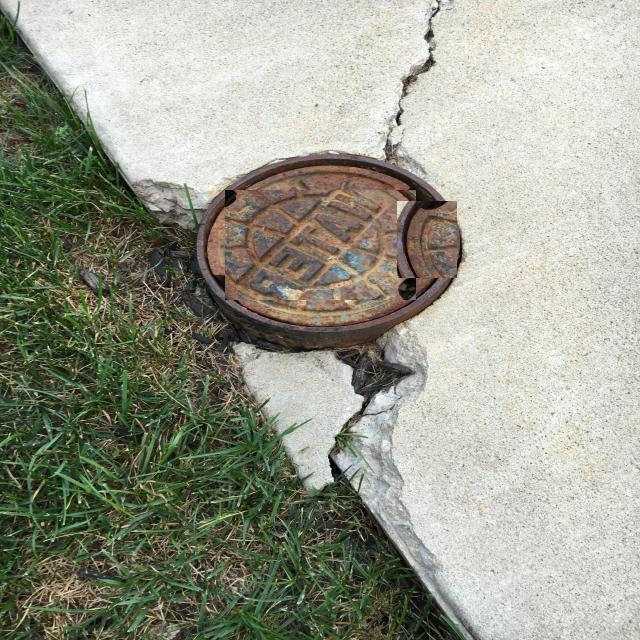Corrosion: (198, 154, 461, 348)
